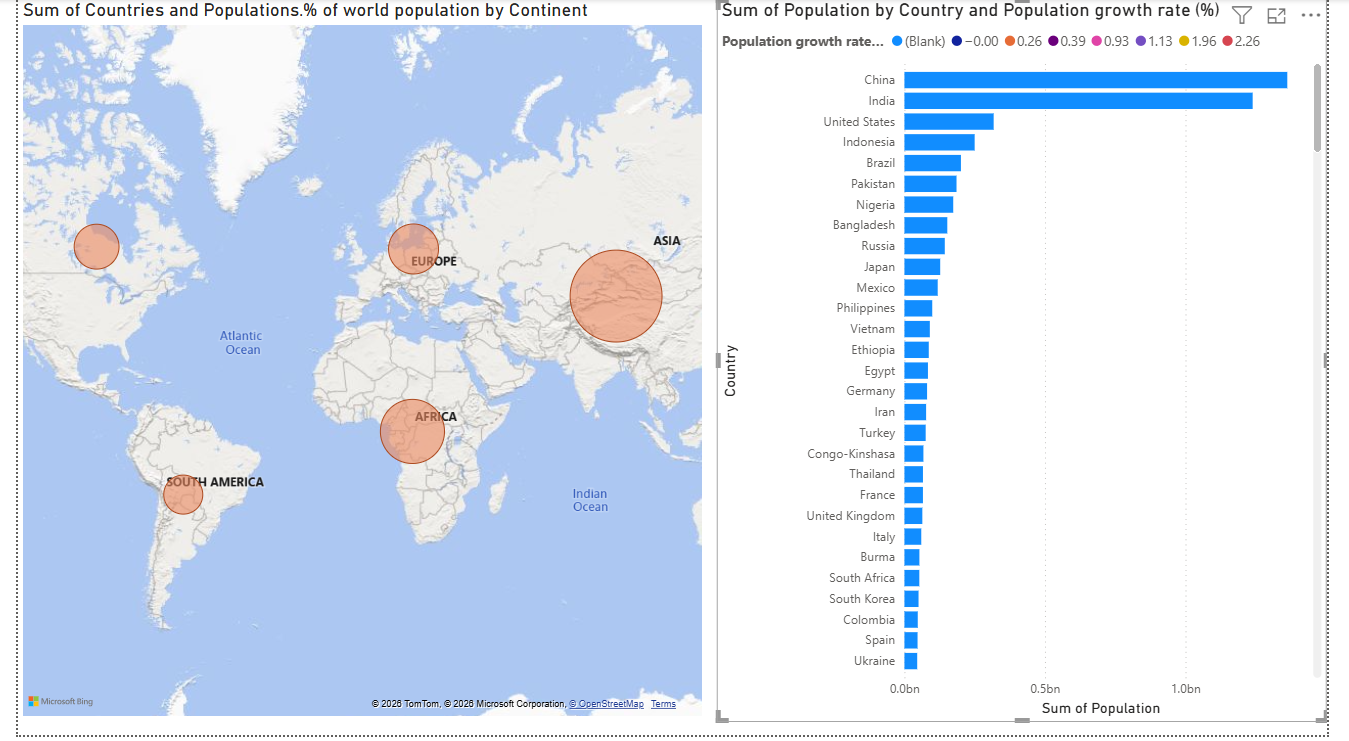

The page's visual inventory and layout, read from the dashboard file:
{"tool":"powerbi","page":{"name":"Countries and Populations","canvas":[1280,720],"ordinal":0},"visuals":[{"type":"map","fields":{"Category":["All Countries and Populations.Continent"],"Size":["Sum(All Countries and Populations.Countries and Populations.% of world population)"]},"box":[0,0,673.8,706.7],"z":0},{"type":"barChart","fields":{"Category":["Countries and Populations.Country"],"Y":["Sum(Countries and Populations.Population)"],"Series":["Population Growth Rates.Population growth rate (%)"]},"box":[683.6,0,596.7,706.8],"z":1000},{"type":"textbox","box":[959.9,337.5,299.6,299.6],"z":2000}]}

Visuals, with their boxes in screenshot pixels (x1, y1, x2, y2), scaled from the page's 1280x720 canvas onto the 1349x741 screenshot:
map - All Countries and Populations.Continent x Sum(All Countries and Populations.Countries and Populations.% of world population): 0:0:710:727
barChart - Countries and Populations.Country x Sum(Countries and Populations.Population): 720:0:1348:727
textbox: 1012:347:1327:656
